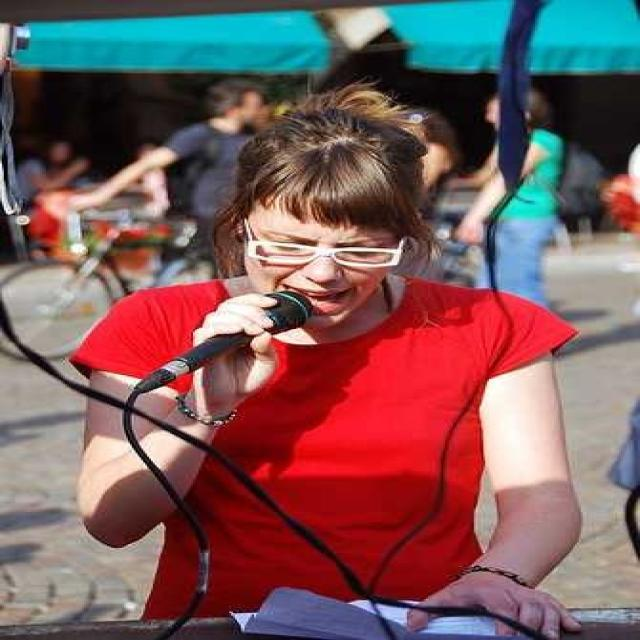microphone: (134, 290, 316, 396)
